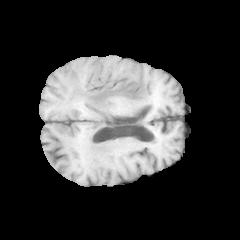glioma: (67, 69, 152, 119)
